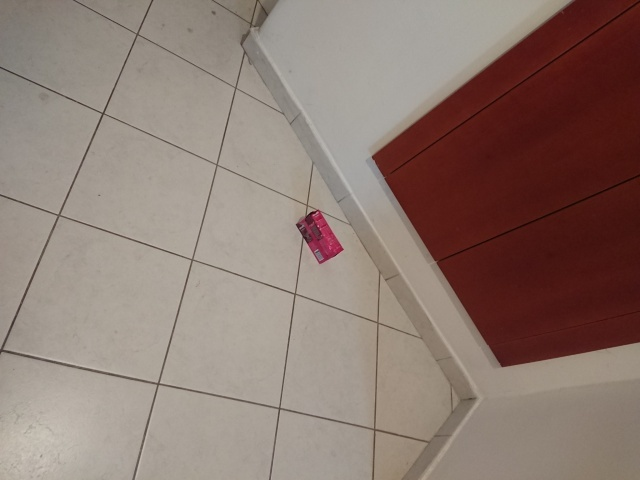Barcaffe Classic Original 225g: (294, 208, 346, 266)
